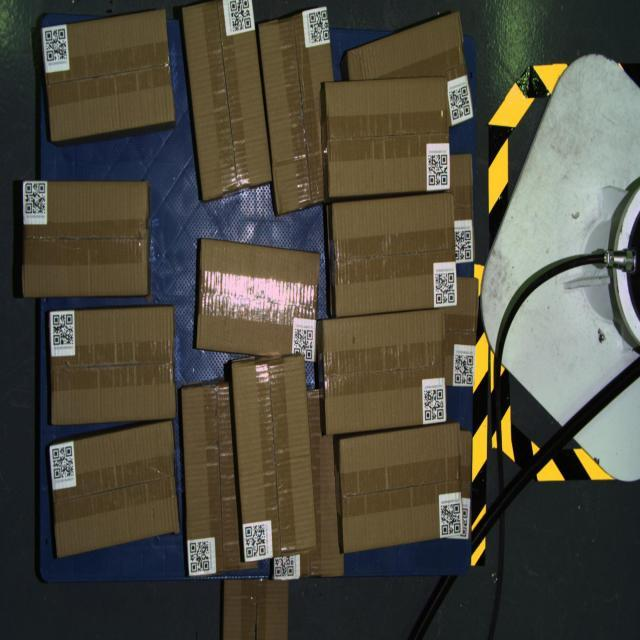box: (182, 0, 272, 201), (41, 9, 175, 142), (49, 421, 179, 558), (231, 355, 317, 562), (340, 423, 463, 553), (332, 191, 457, 317), (323, 309, 447, 435), (196, 238, 320, 362), (49, 306, 176, 426), (325, 76, 450, 197), (23, 180, 148, 297)
